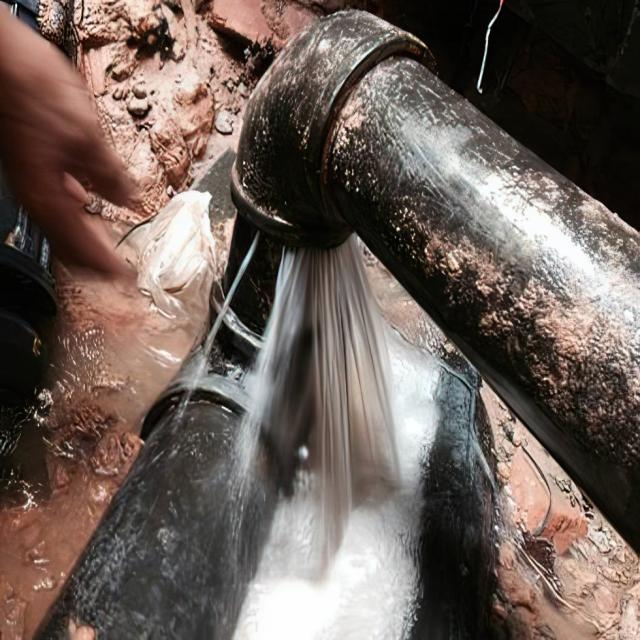leak: (240, 236, 399, 568), (196, 230, 260, 379)
